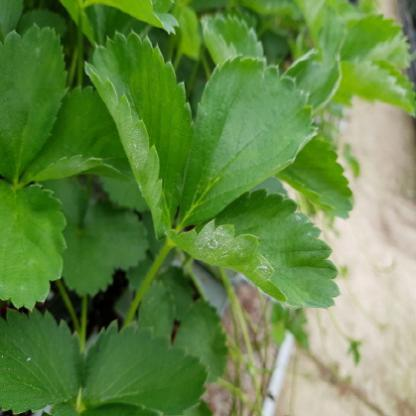Strawberry_Powdery_Mildew_Leaf: (178, 54, 320, 228), (83, 28, 196, 240), (162, 187, 343, 310)
